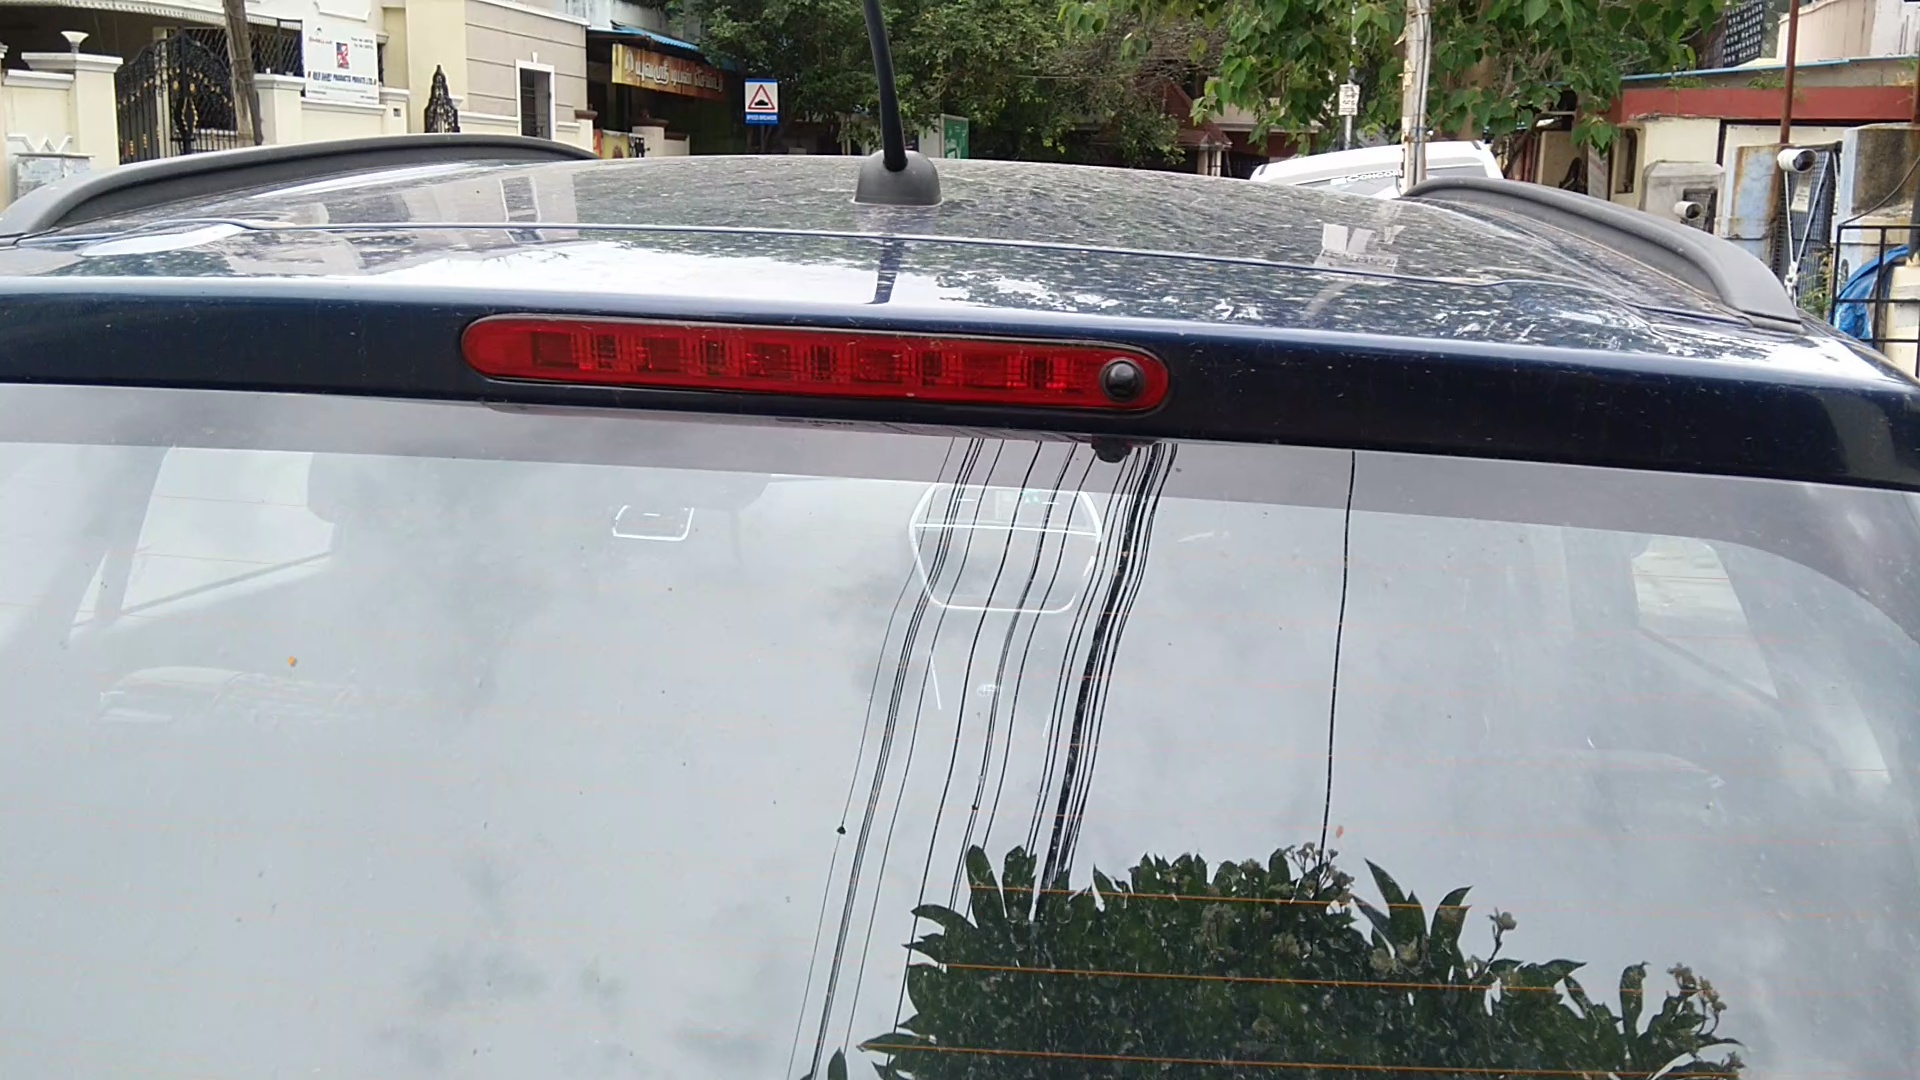rear_camera: (1088, 334, 1167, 419)
